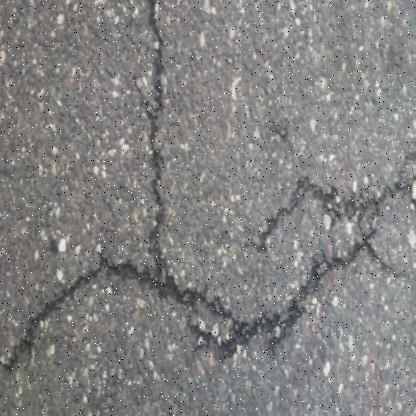Cracks: (0, 239, 398, 382), (242, 128, 415, 255), (141, 0, 173, 300)
